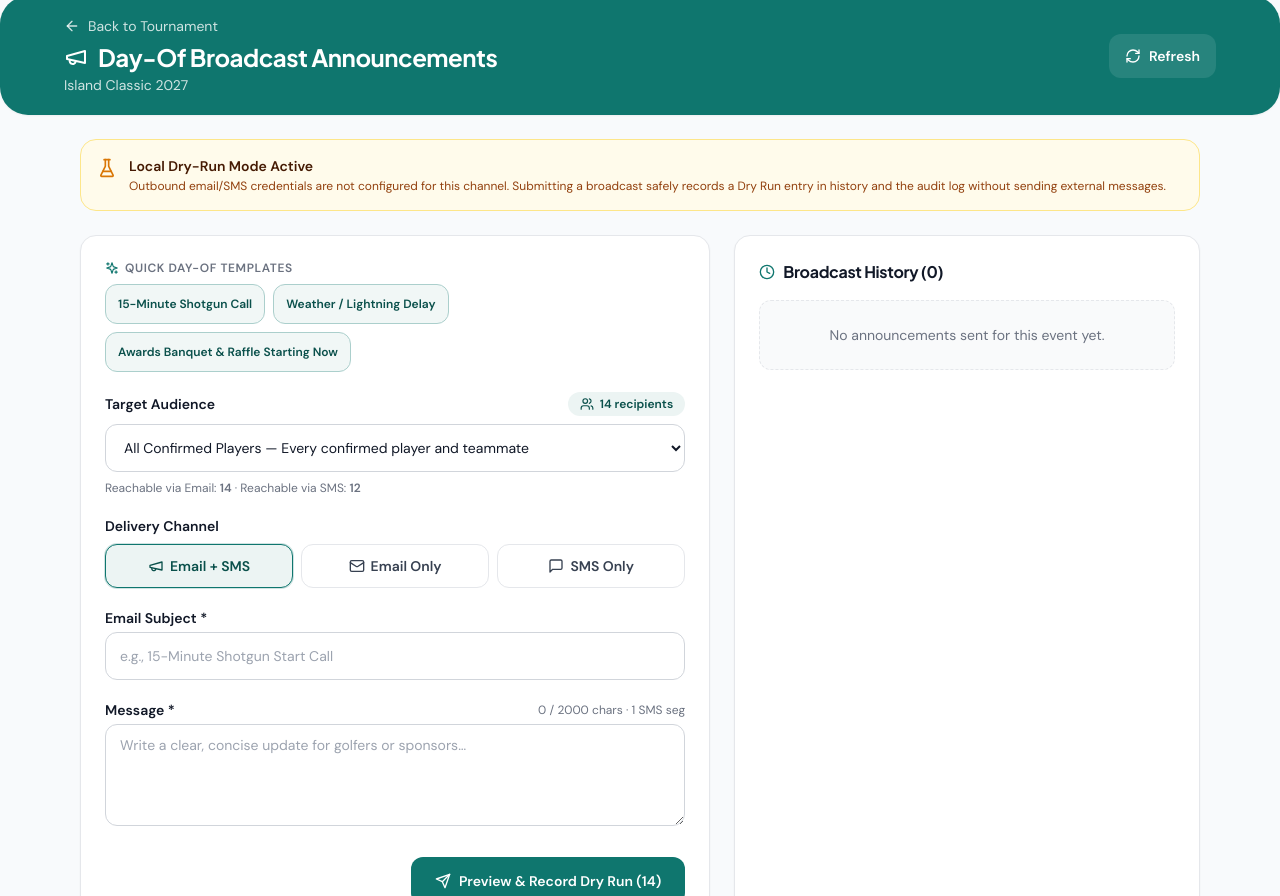
Test case: BroadcastsPage › loads preview counts, applies templates, requires ConfirmDialog, and updates history on dry-run submit
The width and height of the screenshot is (1280, 896).
Check: the element with test id "broadcast-dry-run-banner" is shown, box [80,139,1200,211]
Check: the element with test id "broadcast-recipient-count" reads "14 recipients", box [600,396,673,412]
Click the button "15-Minute Shotgun Call" at (185, 304), box [105,284,265,324]
(page scrolled)
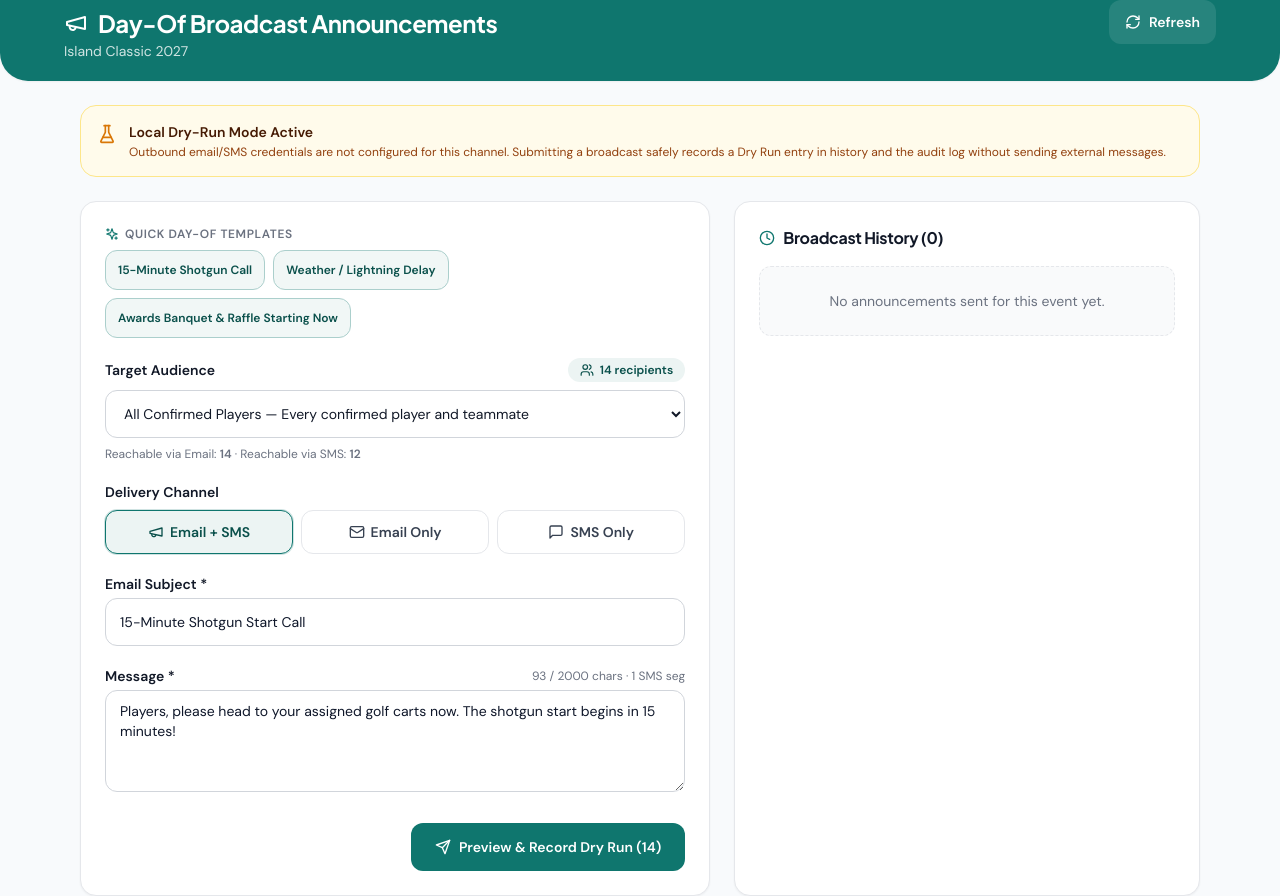
Submit the form, box [80,201,710,895]
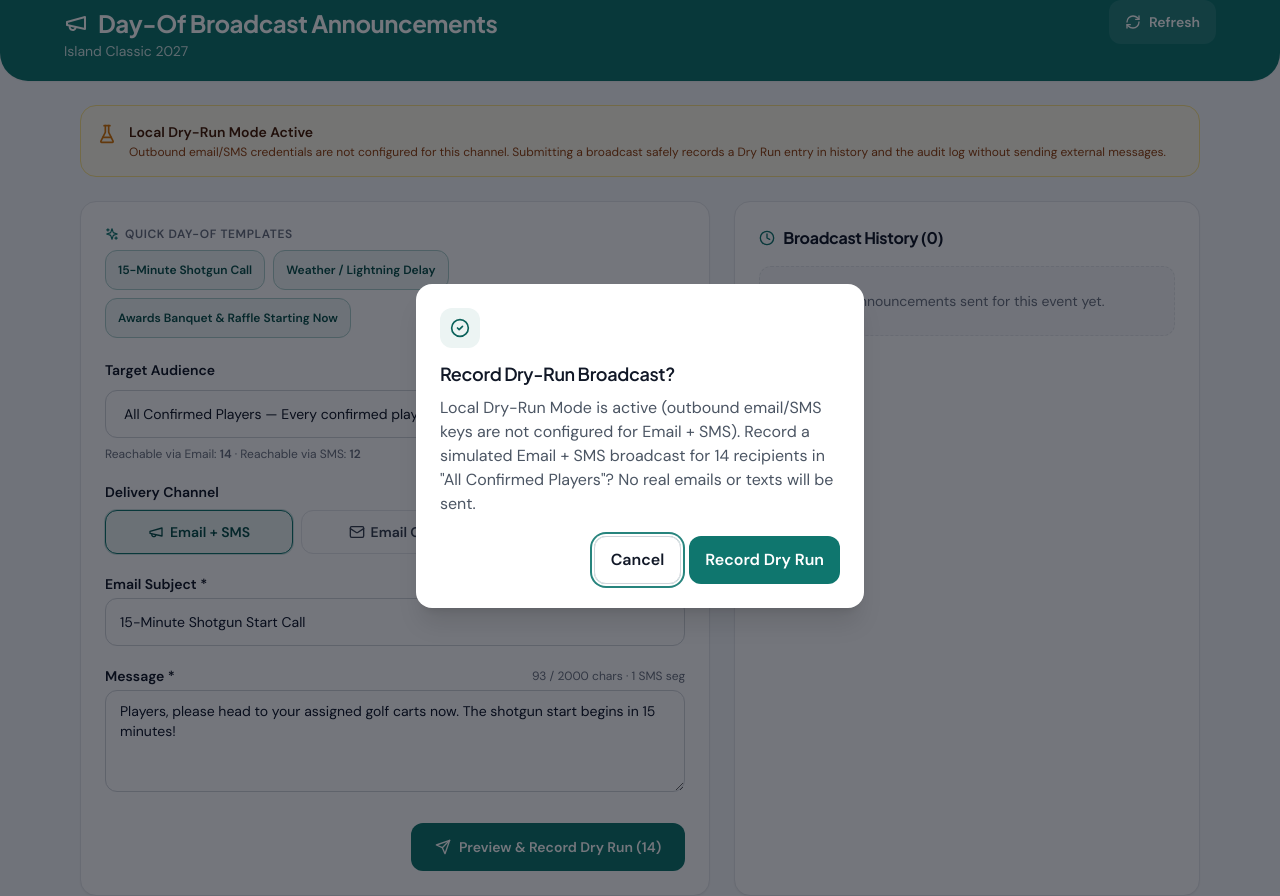
Check: the button "Record Dry Run" is shown
Click the button "Record Dry Run" at (765, 560), box [689,536,840,584]
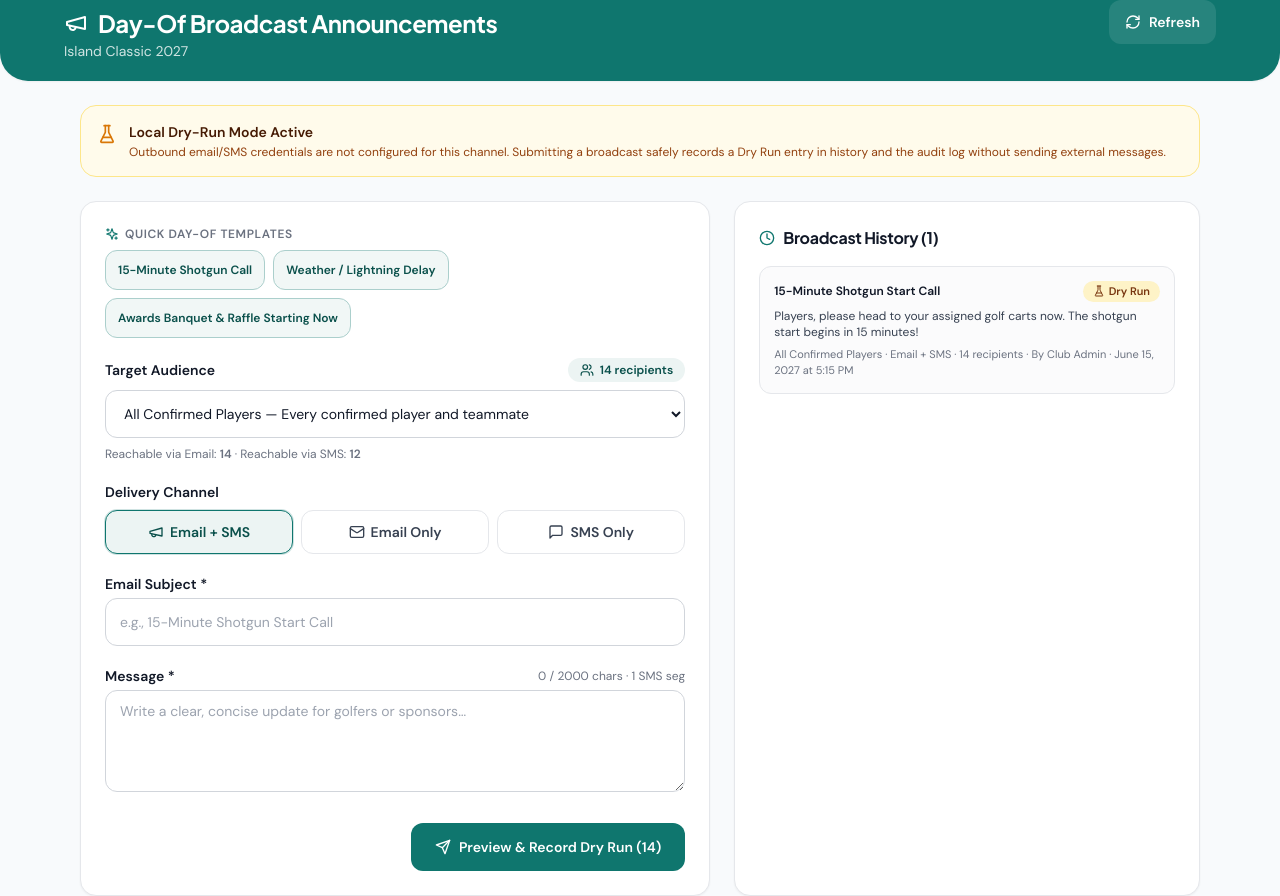
Check: the list with test id "broadcast-history-list" shows "15-Minute Shotgun Start Call", box [774,283,940,299]
Check: the list with test id "broadcast-history-list" shows "Dry Run", box [1109,284,1150,298]
